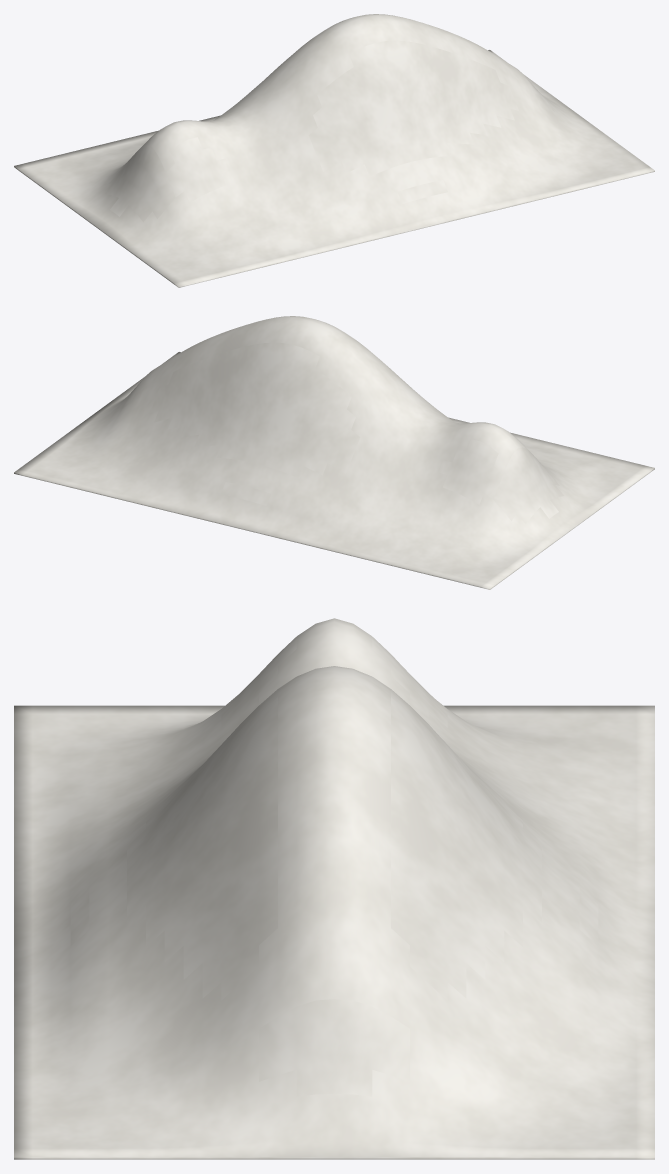
Rendered from PRP_Blanket_Covered.fbx.
The picture shows the model from 3 angles, top to bottom: view 1: azimuth 30°, elevation 25°; view 2: azimuth 150°, elevation 25°; view 3: azimuth 270°, elevation 25°; orthographic projection. The views are drawn at different scales.
Visible parts, largest first — view 1: PRP_Blanket_Covered; view 2: PRP_Blanket_Covered; view 3: PRP_Blanket_Covered.
Boxes of the visible parts, box(x1,y1,x2,y2) form: PRP_Blanket_Covered: box(14, 14, 654, 287); PRP_Blanket_Covered: box(14, 316, 654, 589); PRP_Blanket_Covered: box(14, 618, 654, 1159).
Size of the model in its own units: 150 by 43.58 by 90.
